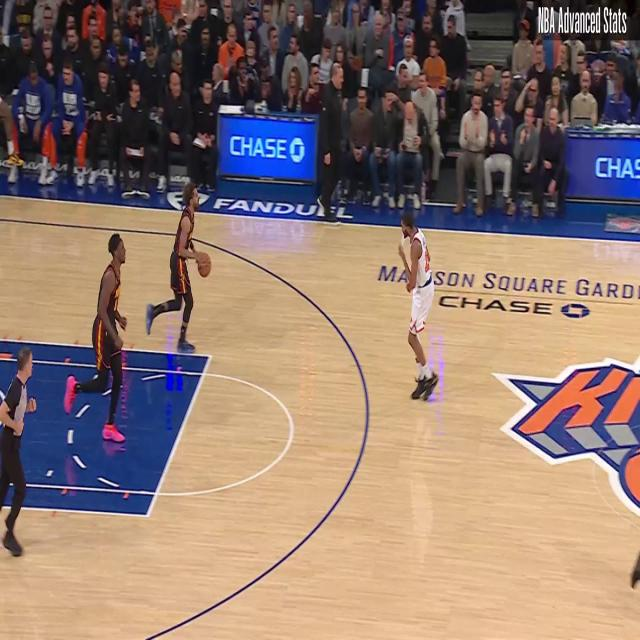ball: (196, 248, 214, 277)
judge: (1, 348, 38, 556)
player: (66, 236, 128, 446), (144, 191, 207, 355), (400, 213, 438, 397)
